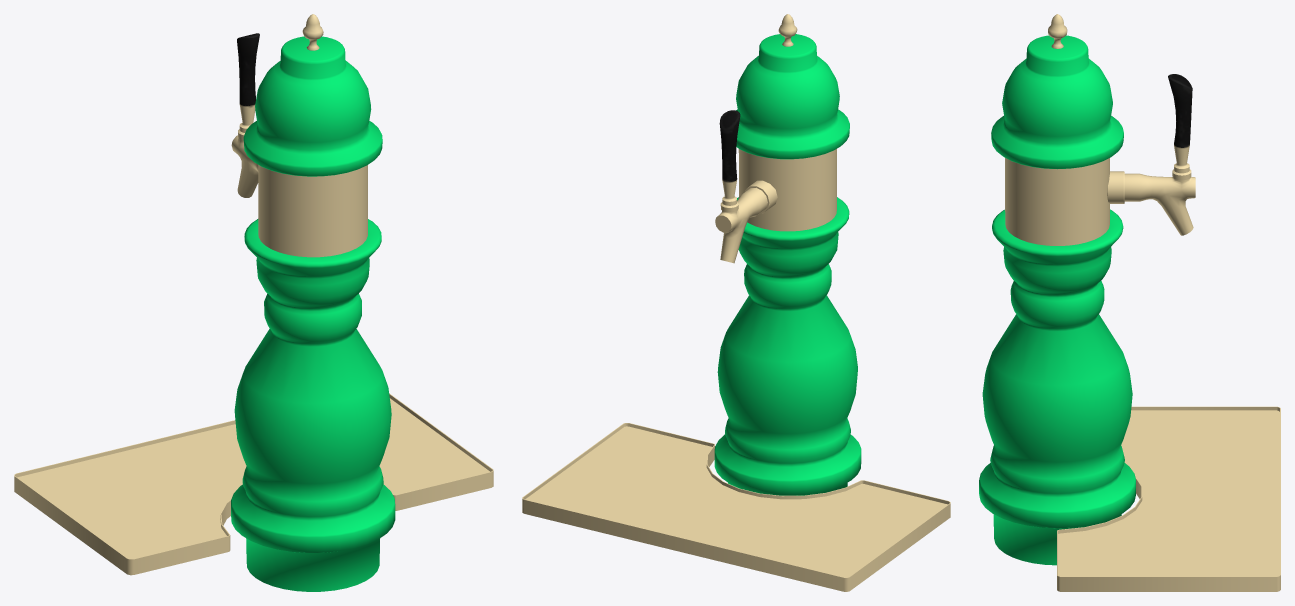
The model's file is Prop_BeerTaps_Green.fbx.
3 renders of one model, left to right at view 1: azimuth 30°, elevation 25°; view 2: azimuth 150°, elevation 25°; view 3: azimuth 270°, elevation 25°, orthographic. The views are drawn at different scales.
Parts seen in each view (by area): view 1: Prop_BeerTaps_Green; view 2: Prop_BeerTaps_Green; view 3: Prop_BeerTaps_Green.
Boxes of the visible parts, x1,y1,x2,y2 form: Prop_BeerTaps_Green: [14, 14, 493, 591]; Prop_BeerTaps_Green: [522, 14, 950, 591]; Prop_BeerTaps_Green: [979, 14, 1280, 591].
Bounding box in the file's own units: 26.78 × 38.42 × 20.04.
